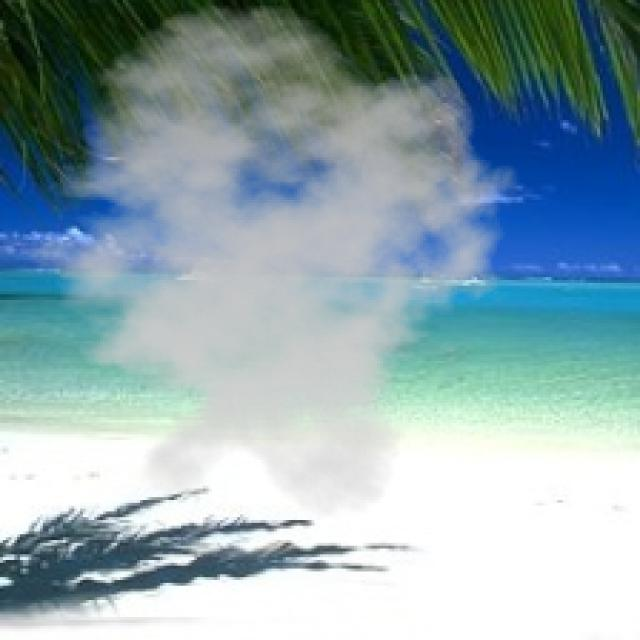smoke: (0, 3, 532, 521)
